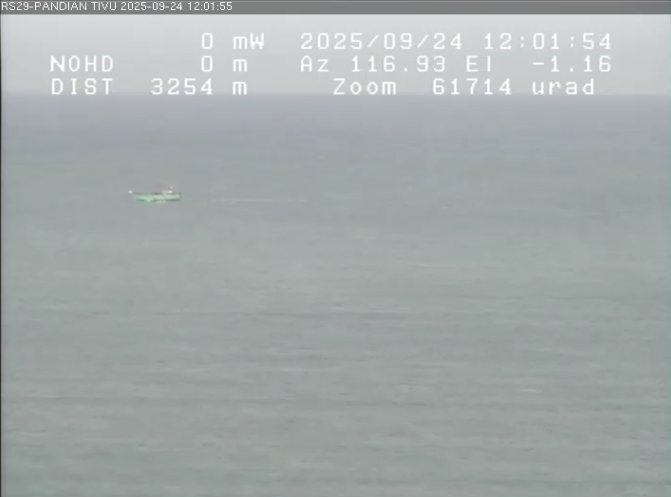FISHING_BOAT: (111, 172, 205, 217)
